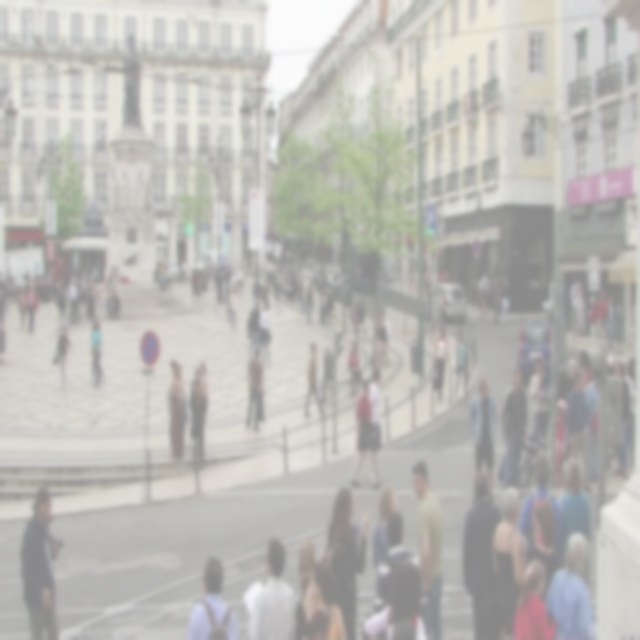pessoa: (324, 486, 372, 638), (461, 471, 504, 638), (18, 484, 64, 639), (410, 456, 446, 639), (542, 528, 599, 639), (490, 481, 530, 639), (240, 533, 296, 639), (373, 511, 428, 616), (362, 558, 428, 638), (556, 458, 594, 590), (186, 554, 241, 638), (518, 450, 562, 550), (498, 364, 528, 502), (511, 557, 559, 639), (525, 497, 561, 604), (564, 366, 594, 494), (302, 558, 349, 638), (468, 376, 498, 498), (349, 376, 381, 490), (52, 260, 102, 332), (325, 538, 359, 638), (106, 164, 157, 229), (293, 537, 317, 639), (528, 354, 553, 450), (371, 484, 398, 571), (470, 268, 510, 324), (166, 362, 188, 462), (584, 367, 602, 485), (613, 361, 631, 478), (367, 368, 385, 483), (302, 341, 328, 419), (121, 30, 142, 126), (244, 343, 265, 433), (208, 254, 243, 306), (431, 321, 451, 407), (624, 355, 638, 468), (270, 261, 304, 307), (186, 367, 204, 452), (454, 325, 472, 400), (56, 321, 73, 392), (22, 264, 52, 303), (534, 356, 554, 414), (89, 318, 106, 386), (555, 398, 568, 486), (346, 340, 364, 403), (103, 261, 121, 320), (318, 340, 334, 406), (302, 606, 334, 638), (90, 316, 104, 388), (257, 300, 272, 366), (24, 278, 40, 334), (604, 288, 617, 351), (190, 266, 208, 310), (388, 614, 420, 638), (248, 297, 260, 360), (436, 286, 449, 342), (569, 274, 581, 334), (574, 278, 586, 338), (554, 362, 570, 407), (251, 276, 271, 310), (594, 285, 610, 327), (154, 256, 172, 292), (320, 286, 336, 326), (226, 284, 238, 335), (423, 290, 436, 334), (351, 298, 366, 336), (18, 282, 29, 332), (586, 293, 596, 347), (351, 298, 364, 338), (566, 356, 578, 399), (319, 286, 333, 322), (305, 282, 315, 324), (174, 248, 187, 280), (379, 311, 392, 338), (190, 371, 204, 396), (200, 359, 209, 397), (548, 270, 556, 312), (603, 354, 616, 378), (436, 265, 452, 284), (8, 268, 18, 298), (277, 242, 291, 262), (424, 264, 432, 298), (378, 314, 388, 340), (170, 357, 178, 375)
